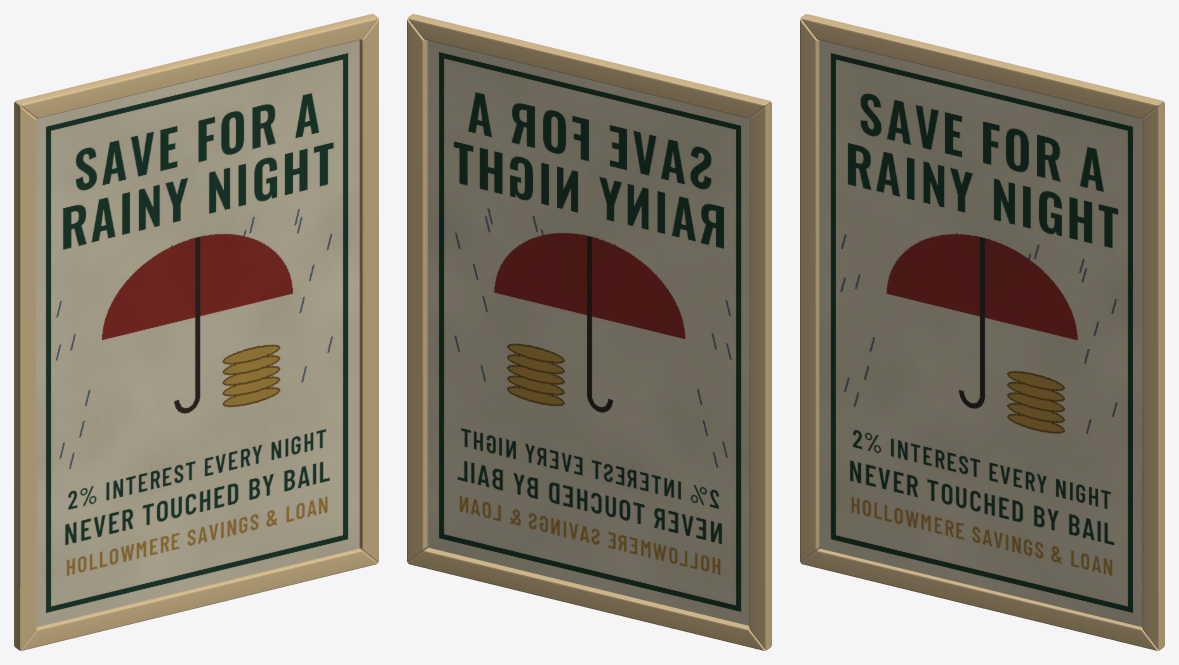
Rendered from SM_Poster_Bank.fbx.
The picture shows the model from 3 angles, left to right: view 1: azimuth 30°, elevation 25°; view 2: azimuth 150°, elevation 25°; view 3: azimuth 330°, elevation 25°; orthographic projection.
Visible parts, largest first — view 1: SM_Poster_Bank_1; view 2: SM_Poster_Bank_1; view 3: SM_Poster_Bank_1.
Part boxes in pixels (box(x1,y1,x2,y2)): SM_Poster_Bank_1: box(14, 14, 378, 650); SM_Poster_Bank_1: box(407, 14, 771, 650); SM_Poster_Bank_1: box(800, 14, 1164, 650).
Bounding box in the file's own units: 62 × 90 × 2.
